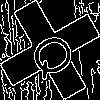Q: (25, 25, 87, 83)
